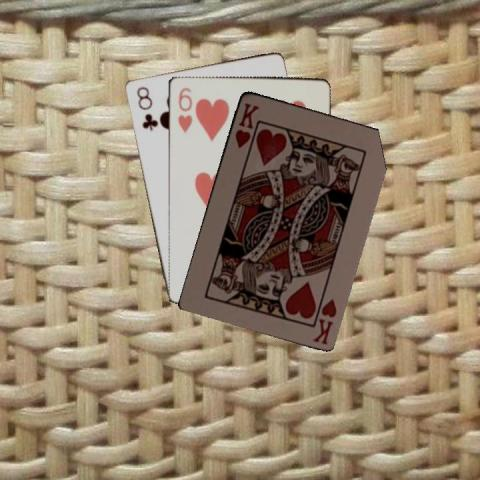6h: (174, 85, 192, 134)
8c: (133, 83, 157, 132)
Kh: (231, 99, 260, 150), (309, 296, 338, 346)
